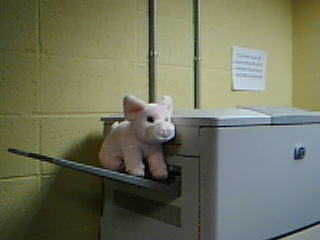piggy: (98, 93, 178, 180)
